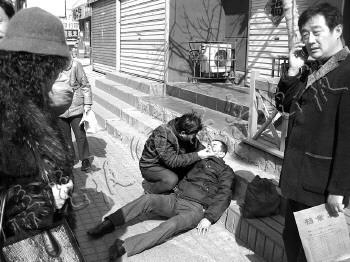fall: (85, 133, 239, 259)
